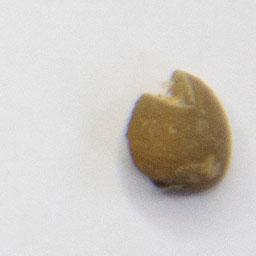defect: (122, 67, 236, 197)
